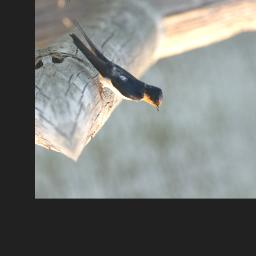Swallow: (64, 0, 172, 131)
